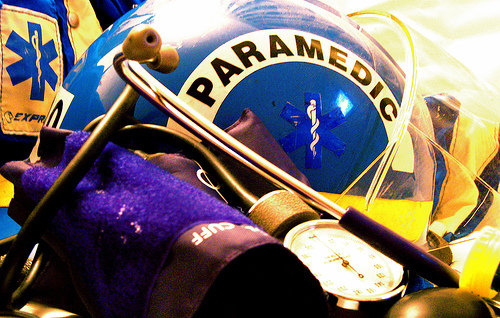helmet: (89, 4, 437, 239)
